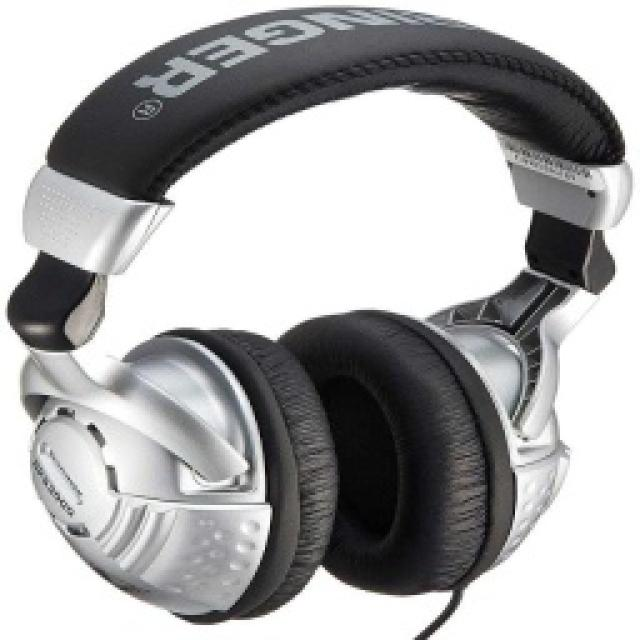headphones: (2, 3, 632, 625)
